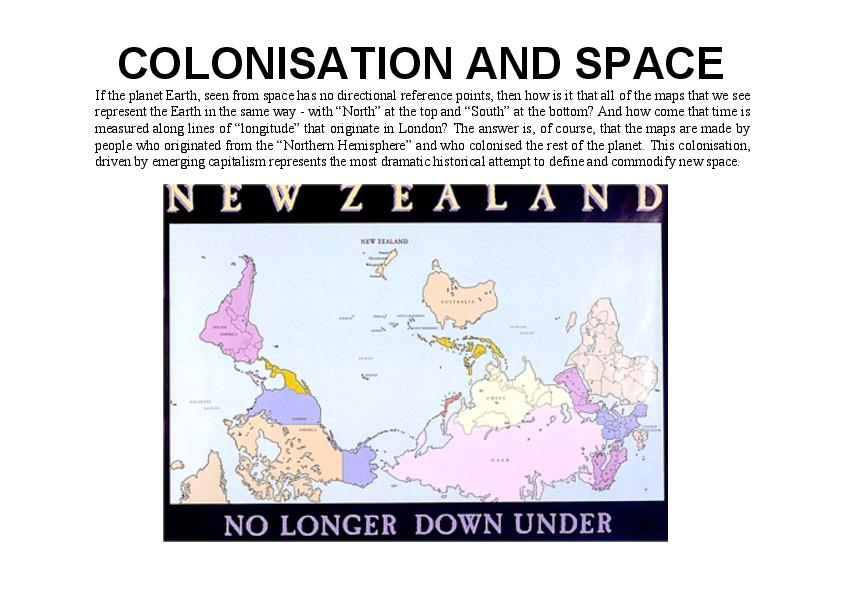paragraph: (89, 83, 791, 181)
title: (116, 28, 735, 86)
